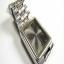watch: (17, 16, 58, 64)
